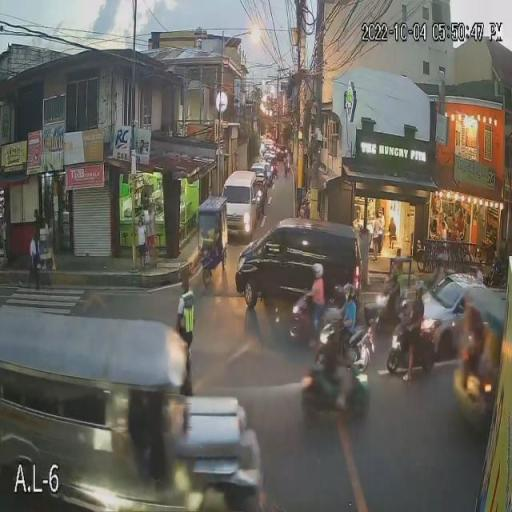helmet: (316, 306, 346, 331), (409, 279, 430, 298), (337, 283, 360, 299), (311, 264, 326, 280)
motorcycle: (299, 362, 371, 418), (385, 313, 438, 371), (283, 297, 320, 343)
rider: (318, 329, 356, 411), (400, 302, 429, 382), (307, 278, 328, 324), (340, 302, 362, 334)
